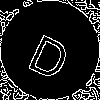D: (25, 25, 77, 82)
